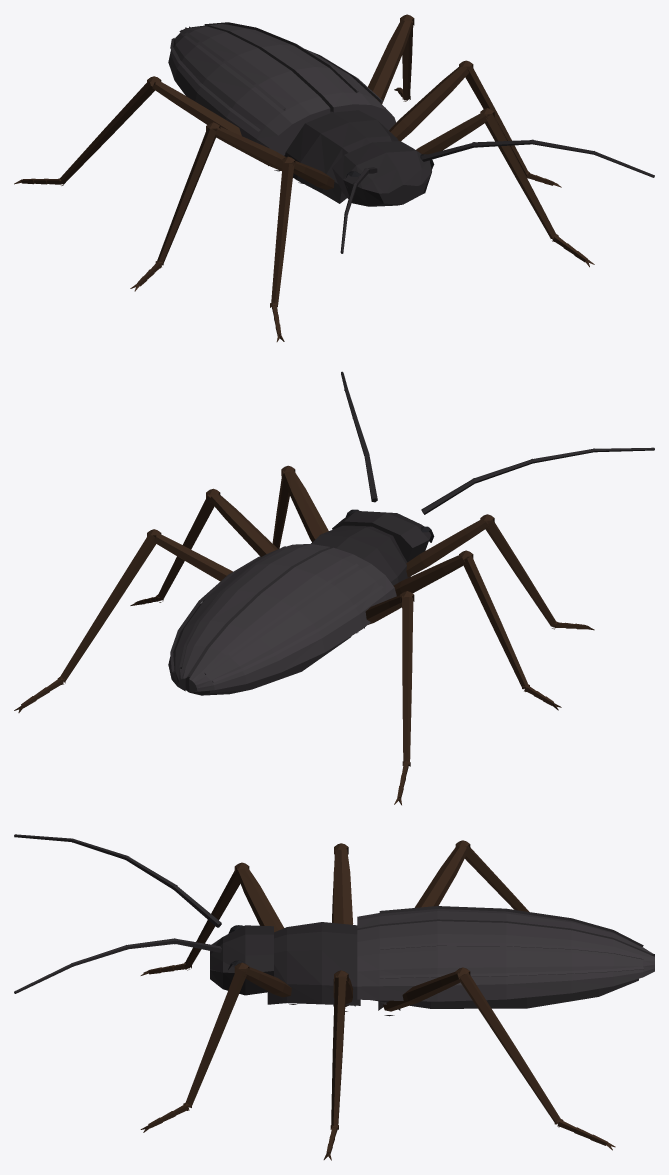
Rendered from shadow.glb.
3 renders of one model, top to bottom at view 1: azimuth 30°, elevation 25°; view 2: azimuth 150°, elevation 25°; view 3: azimuth 270°, elevation 25°, orthographic. The views are drawn at different scales.
Parts seen in each view (by area): view 1: BeetlePlate_01, BeetlePlate_00, HeadBase001, ThoraxCore, Femur002, Tibia003, Tibia001, Femur004, Tibia005, Tibia000, Femur005, Femur003 (+4 smaller); view 2: BeetlePlate_01, BeetlePlate_00, ThoraxCore, HeadBase001, Tibia004, Tibia005, Tibia003, Femur000, Femur001, Femur002, Tibia001, Femur004 (+4 smaller); view 3: BeetlePlate_00, ThoraxCore, BeetlePlate_01, HeadBase001, Tibia004, BeetleBodyInner, Tibia002, Tibia000, Femur003, Femur005, Femur001, Femur004 (+3 smaller).
Boxes of the visible parts, x1,y1,x2,y2 form: BeetlePlate_01: [168, 26, 330, 155]; BeetlePlate_00: [189, 22, 395, 130]; HeadBase001: [332, 141, 431, 206]; ThoraxCore: [284, 110, 398, 203]; Femur002: [389, 65, 469, 140]; Tibia003: [157, 127, 216, 265]; Tibia001: [271, 163, 294, 305]; Femur004: [368, 19, 412, 103]; Tibia005: [59, 81, 154, 184]; Tibia000: [485, 113, 556, 238]; Femur005: [152, 81, 241, 135]; Femur003: [212, 127, 285, 170]; BeetlePlate_01: [189, 547, 396, 692]; BeetlePlate_00: [168, 544, 330, 691]; ThoraxCore: [311, 525, 410, 585]; HeadBase001: [332, 511, 431, 562]; Tibia004: [60, 534, 156, 682]; Tibia005: [402, 597, 413, 764]; Tibia003: [463, 555, 528, 689]; Femur000: [282, 470, 328, 542]; Femur001: [406, 519, 488, 577]; Femur002: [209, 494, 277, 556]; Tibia001: [485, 519, 556, 627]; Femur004: [153, 534, 232, 581]; BeetlePlate_00: [357, 921, 654, 1001]; ThoraxCore: [267, 922, 360, 1005]; BeetlePlate_01: [357, 906, 654, 955]; HeadBase001: [210, 925, 273, 995]; Tibia004: [459, 972, 560, 1124]; BeetleBodyInner: [373, 978, 638, 1008]; Tibia002: [331, 977, 346, 1128]; Tibia000: [185, 968, 246, 1107]; Femur003: [333, 849, 353, 924]; Femur005: [414, 845, 467, 907]; Femur001: [237, 867, 283, 932]; Femur004: [383, 971, 463, 1011].
Size of the model in its own units: 3.18 by 1.05 by 4.01.
